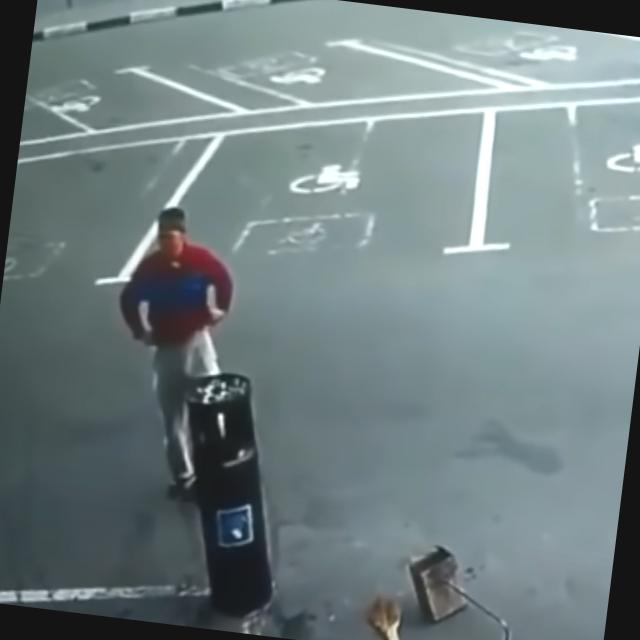person: (95, 199, 244, 502)
